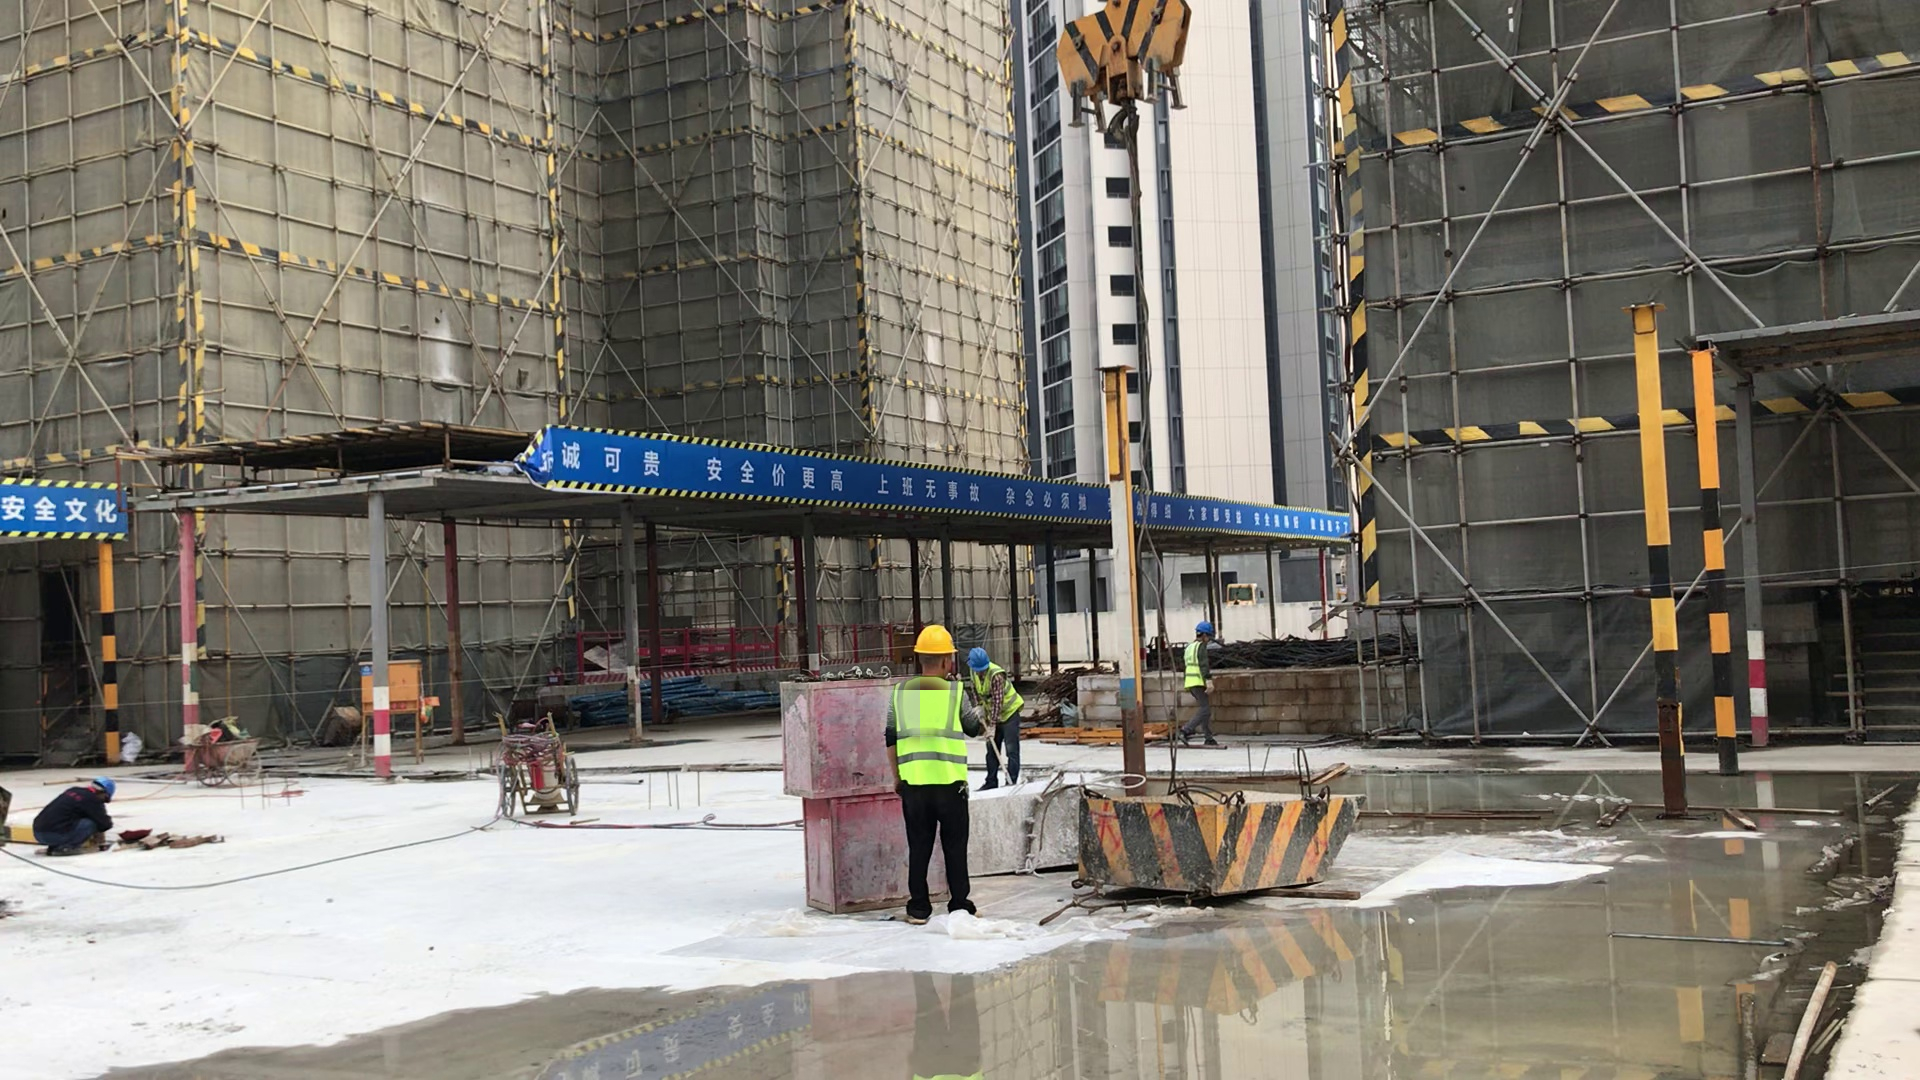ebox: (359, 660, 423, 708)
fence: (577, 623, 902, 684)
handcart: (493, 714, 578, 822)
helmet: (911, 623, 956, 655), (969, 648, 987, 670), (1195, 620, 1214, 636)
hook: (1056, 1, 1190, 149)
hopper: (1086, 781, 1352, 911), (963, 769, 1116, 887)
person: (891, 634, 982, 923), (966, 647, 1023, 791), (32, 776, 117, 857), (1178, 622, 1220, 747)
slogan: (532, 424, 1346, 542), (8, 481, 124, 542)
vest: (893, 677, 967, 786), (967, 662, 1023, 724), (1181, 639, 1205, 689)
